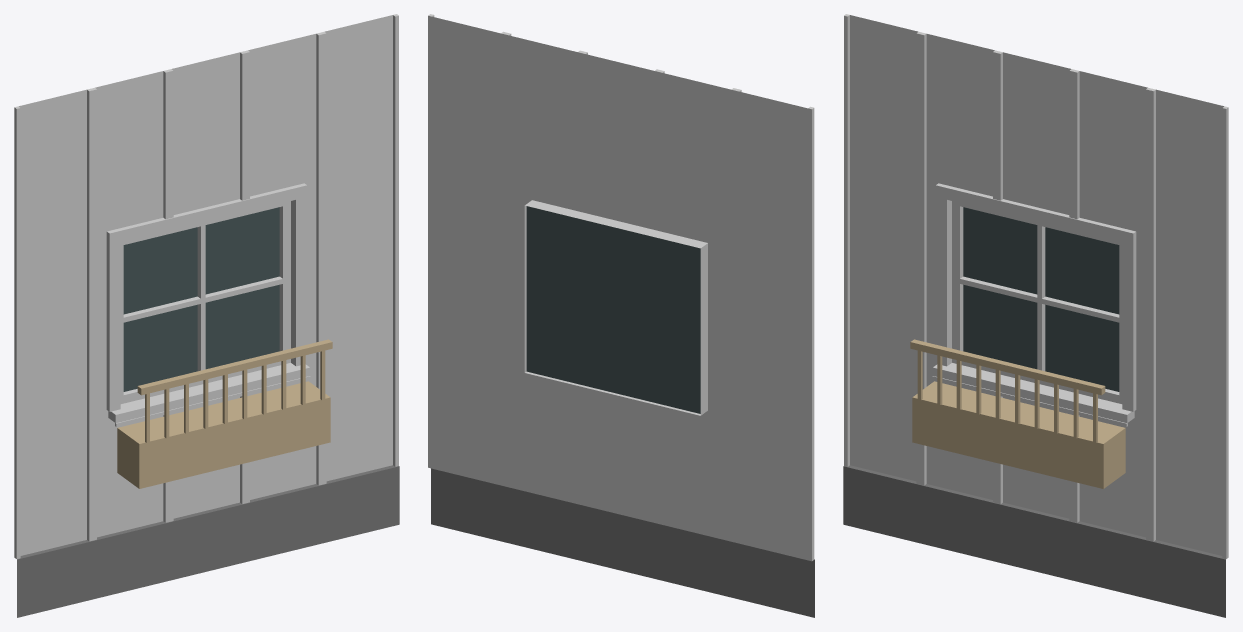
File: base-w1_close.fbx
The picture shows the model from 3 angles, left to right: view 1: azimuth 30°, elevation 25°; view 2: azimuth 150°, elevation 25°; view 3: azimuth 330°, elevation 25°; orthographic projection.
Parts seen in each view (by area): view 1: a2015/200/base-w1_close; view 2: a2015/200/base-w1_close; view 3: a2015/200/base-w1_close.
Part boxes in pixels (bbox=[...]): a2015/200/base-w1_close: bbox=[14, 14, 399, 617]; a2015/200/base-w1_close: bbox=[428, 14, 814, 617]; a2015/200/base-w1_close: bbox=[843, 14, 1228, 617].
Bounding box in the file's own units: 2.4 × 3.05 × 0.42.
